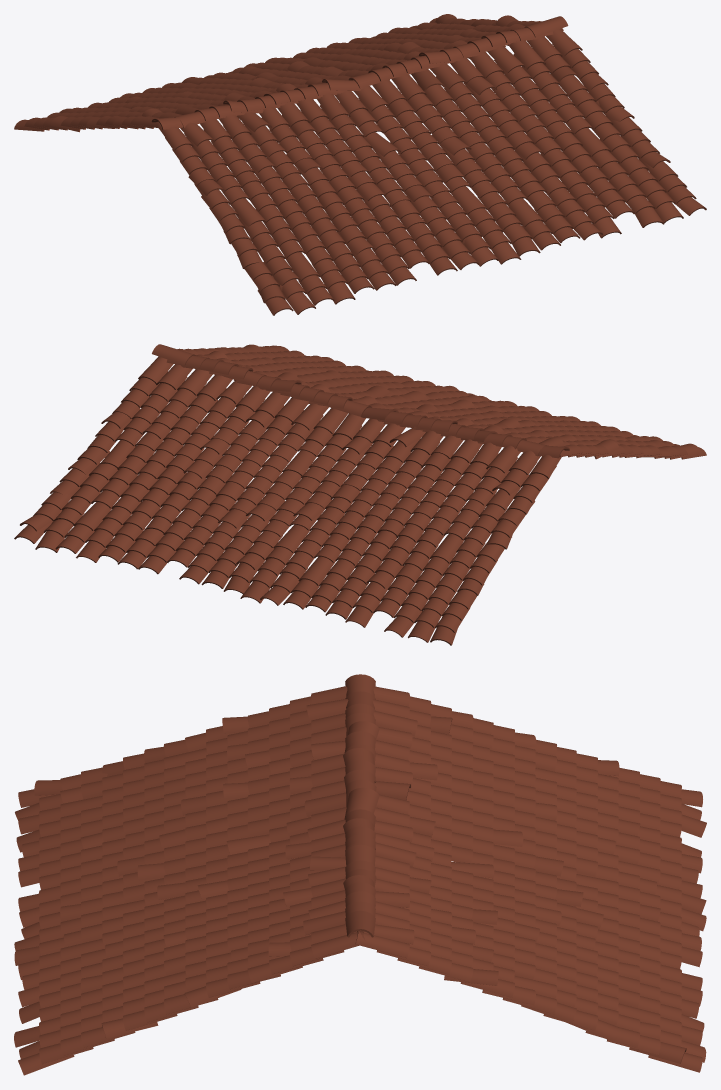
The model's file is SM_BuildingRoof.fbx.
3 views of the same model, one above another, from view 1: azimuth 30°, elevation 25°; view 2: azimuth 150°, elevation 25°; view 3: azimuth 270°, elevation 25° (orthographic). The views are drawn at different scales.
Visible parts, largest first — view 1: polySurface1249; view 2: polySurface1249; view 3: polySurface1249.
Boxes of the visible parts, box(x1,y1,x2,y2) form: polySurface1249: box(14, 14, 706, 315); polySurface1249: box(14, 344, 706, 645); polySurface1249: box(14, 674, 706, 1075).
Size of the model in its own units: 1513 by 352 by 1575.
